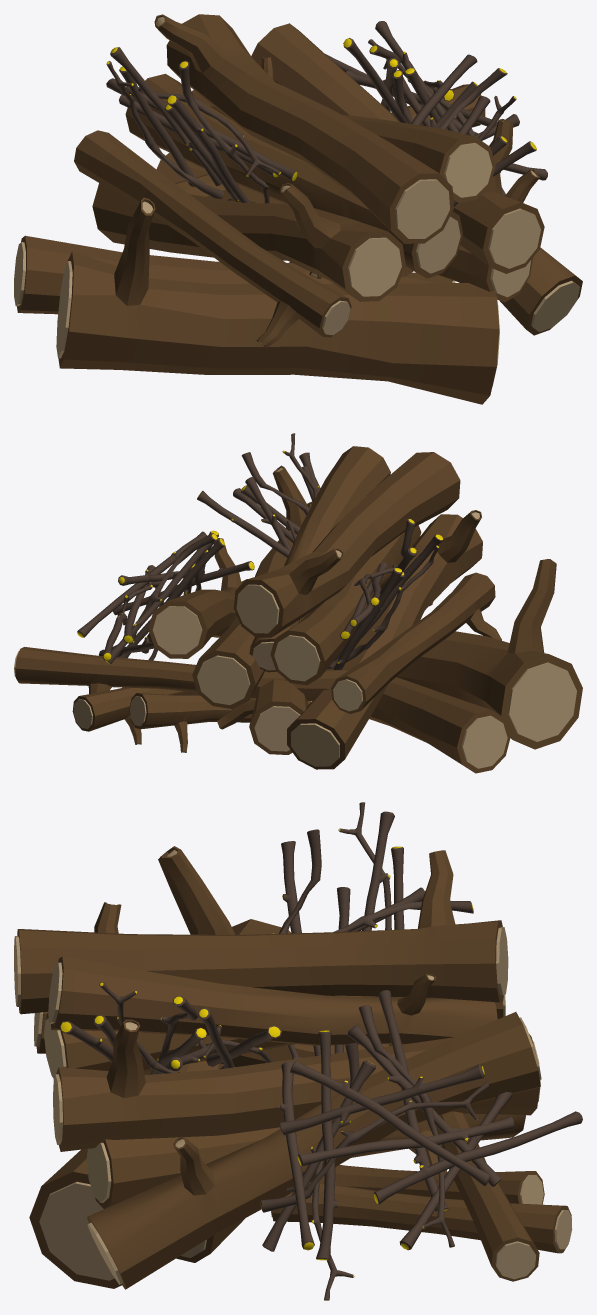
File: th_dam_01.fbx
The picture shows the model from 3 angles, top to bottom: view 1: azimuth 30°, elevation 25°; view 2: azimuth 150°, elevation 25°; view 3: azimuth 270°, elevation 25°; orthographic projection. The views are drawn at different scales.
Parts seen in each view (by area): view 1: th_dam_ORIGIN; view 2: th_dam_ORIGIN; view 3: th_dam_ORIGIN.
Boxes of the visible parts, box(x1,y1,x2,y2) form: th_dam_ORIGIN: box(14, 14, 582, 404); th_dam_ORIGIN: box(14, 433, 582, 773); th_dam_ORIGIN: box(14, 802, 582, 1300).
Size of the model in its own units: 866 by 476 by 701.
